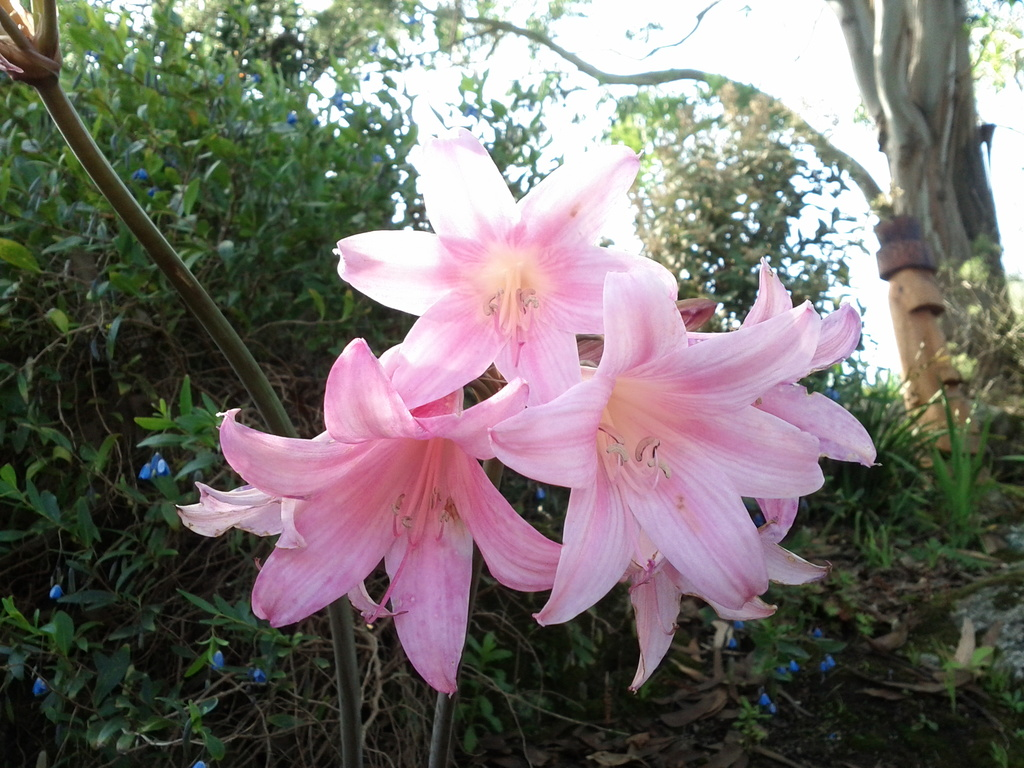Tree: (0, 0, 1024, 480)
